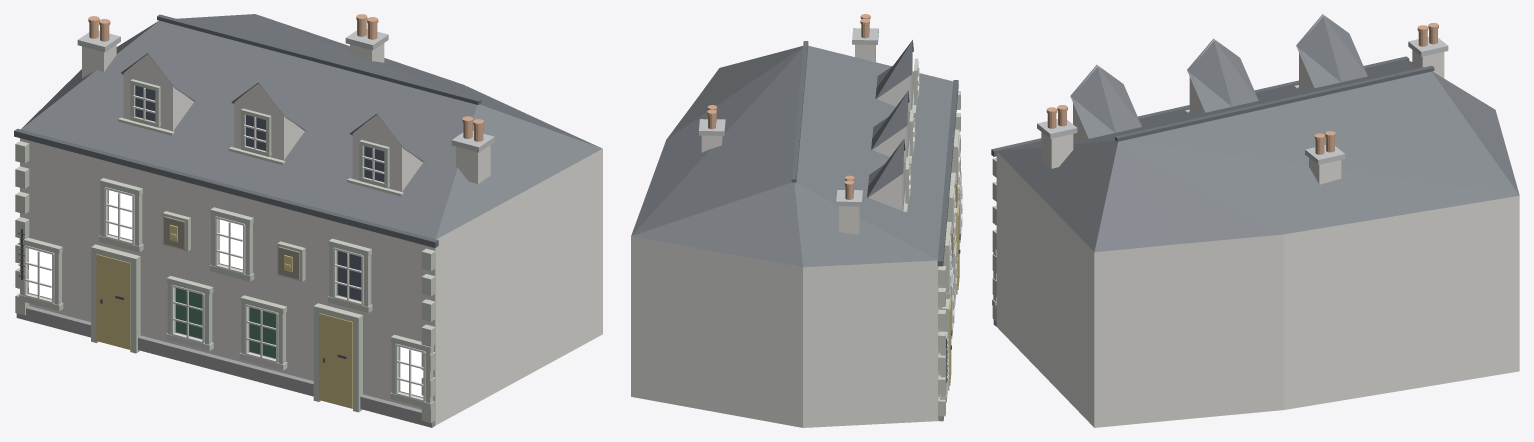
3 renders of one model, left to right at view 1: azimuth 30°, elevation 25°; view 2: azimuth 150°, elevation 25°; view 3: azimuth 270°, elevation 25°, orthographic. The views are drawn at different scales.
Visible parts, largest first — view 1: harl, slate, dress_sage, slate_dk, door_yellow, frame, plinth, chim_render, door_green, stone_band, pot, door_cad (+8 smaller); view 2: harl, slate, dress_sage, slate_dk, chim_render, stone_band, frame, pot, door_yellow; view 3: harl, slate, slate_dk, chim_render, stone_band, pot, dress_sage.
Boxes of the visible parts, x1,y1,x2,y2 form: harl: (20, 53, 602, 425); slate: (21, 14, 602, 239); dress_sage: (15, 79, 435, 422); slate_dk: (14, 14, 481, 247); door_yellow: (96, 254, 352, 408); frame: (24, 88, 425, 402); plinth: (16, 306, 435, 427); chim_render: (82, 43, 490, 183); door_green: (176, 288, 275, 358); stone_band: (77, 29, 494, 152); pot: (88, 14, 484, 141); door_cad: (166, 291, 287, 370); harl: (631, 52, 952, 427); slate: (631, 40, 953, 267); dress_sage: (903, 58, 961, 416); slate_dk: (791, 41, 958, 266); chim_render: (701, 44, 875, 234); stone_band: (699, 28, 878, 206); frame: (909, 67, 962, 394); pot: (707, 14, 870, 199); door_yellow: (949, 200, 959, 385); harl: (996, 14, 1519, 427); slate: (997, 14, 1519, 252); slate_dk: (991, 56, 1434, 156); chim_render: (1041, 50, 1444, 184); stone_band: (1037, 37, 1448, 164); pot: (1046, 23, 1438, 154); dress_sage: (992, 85, 1298, 321).
Bounding box in the file's own units: 10.88 × 6.78 × 12.41.
